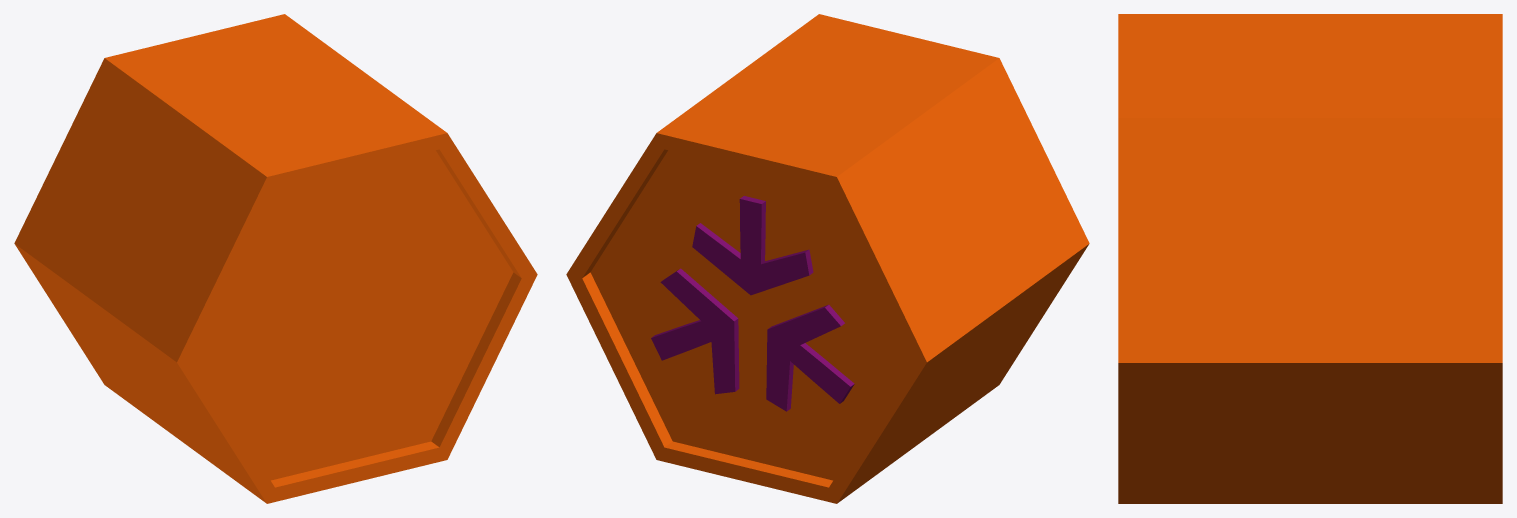
File: Hex_Player2.FBX
3 renders of one model, left to right at view 1: azimuth 30°, elevation 25°; view 2: azimuth 150°, elevation 25°; view 3: azimuth 270°, elevation 25°, orthographic. The views are drawn at different scales.
Visible parts, largest first — view 1: Cylinder007; view 2: Cylinder007; view 3: Cylinder007.
Boxes of the visible parts, x1,y1,x2,y2 form: Cylinder007: (14,14,537,503); Cylinder007: (566,14,1089,503); Cylinder007: (1118,14,1502,503).
Bounding box in the file's own units: 25.51 × 19.92 × 22.09.
